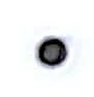cancer: (26, 22, 91, 81)
